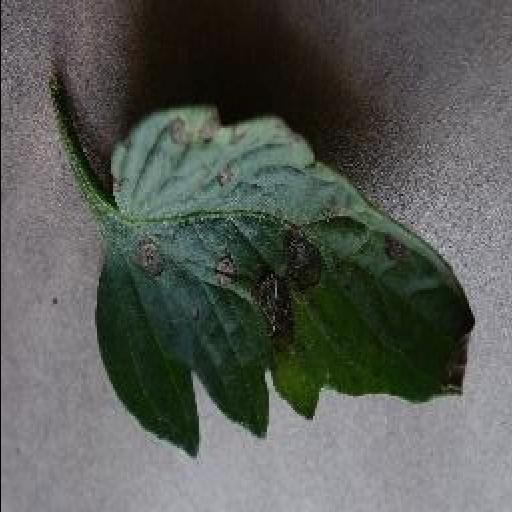disease_tomato: (92, 104, 474, 458)
